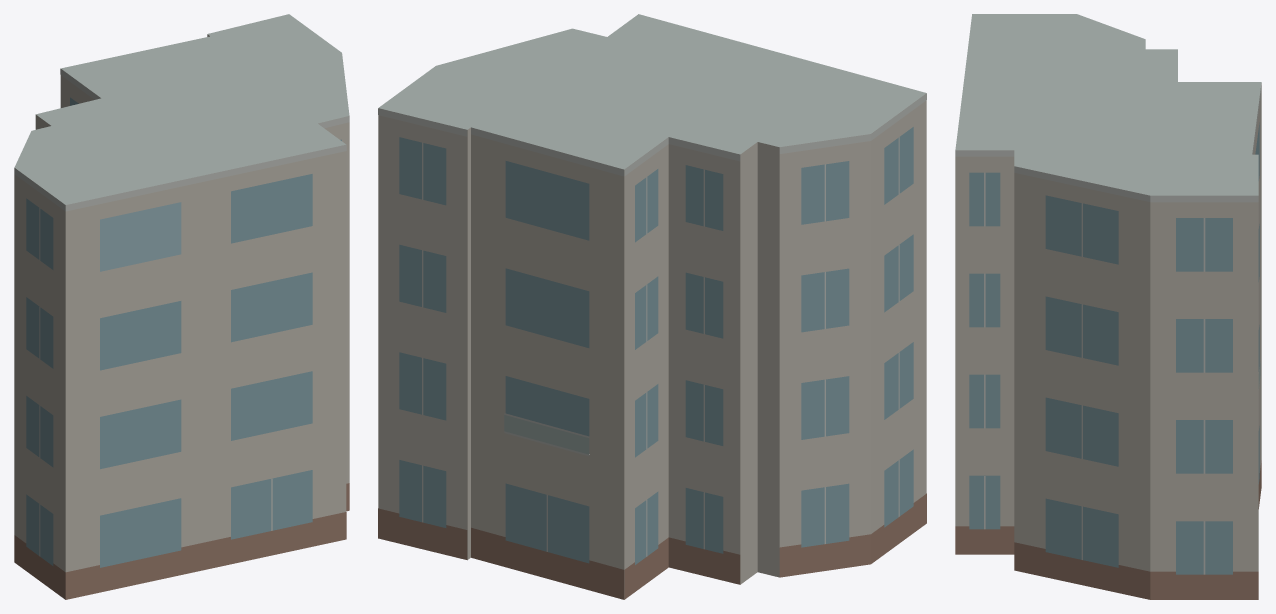
The model's file is survey-upis-32475834.glb.
3 views of the same model, side by side, from view 1: azimuth 30°, elevation 25°; view 2: azimuth 150°, elevation 25°; view 3: azimuth 270°, elevation 25° (orthographic). The views are drawn at different scales.
Parts seen in each view (by area): view 1: survey-upis-32475834.tmp; view 2: survey-upis-32475834.tmp; view 3: survey-upis-32475834.tmp.
Boxes of the visible parts, x1,y1,x2,y2 form: survey-upis-32475834.tmp: (14, 14, 349, 599); survey-upis-32475834.tmp: (378, 14, 926, 599); survey-upis-32475834.tmp: (955, 14, 1261, 599).
Bounding box in the file's own units: 14.47 × 15 × 10.31.
